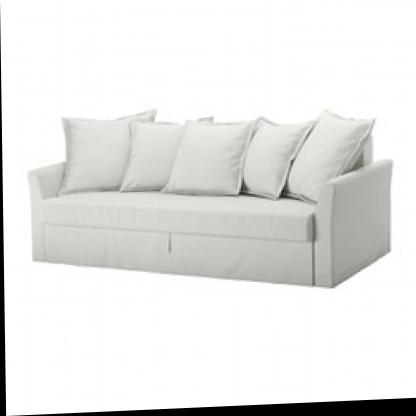Sofa: (20, 73, 394, 310)
